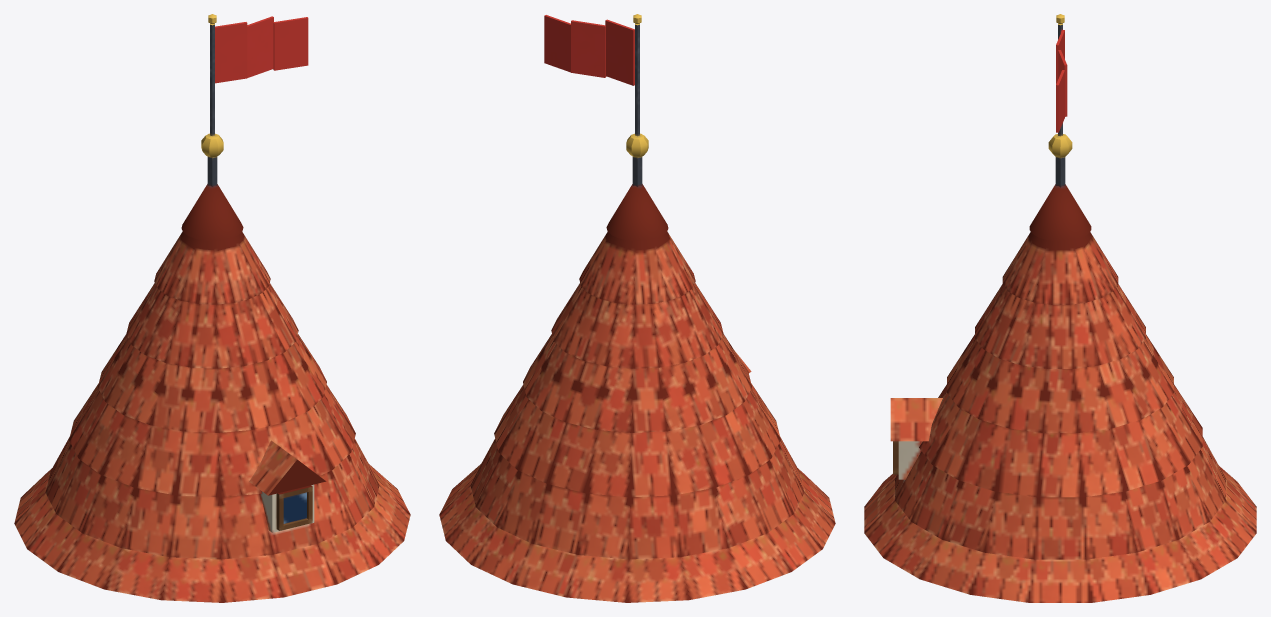
Rendered from Kit_Keep_TurretRoof.fbx.
The picture shows the model from 3 angles, left to right: view 1: azimuth 30°, elevation 25°; view 2: azimuth 150°, elevation 25°; view 3: azimuth 270°, elevation 25°; orthographic projection.
Parts seen in each view (by area): view 1: Kit_Keep_TurretRoof_LOD0; view 2: Kit_Keep_TurretRoof_LOD0; view 3: Kit_Keep_TurretRoof_LOD0.
Boxes of the visible parts, x1=… form: Kit_Keep_TurretRoof_LOD0: x1=14, y1=14, x2=410, y2=602; Kit_Keep_TurretRoof_LOD0: x1=439, y1=14, x2=835, y2=602; Kit_Keep_TurretRoof_LOD0: x1=864, y1=14, x2=1256, y2=602.
Size of what is drawn, in the model's own units: 3.52 by 5 by 3.52.
Materials: 1 (1 with a texture image).
